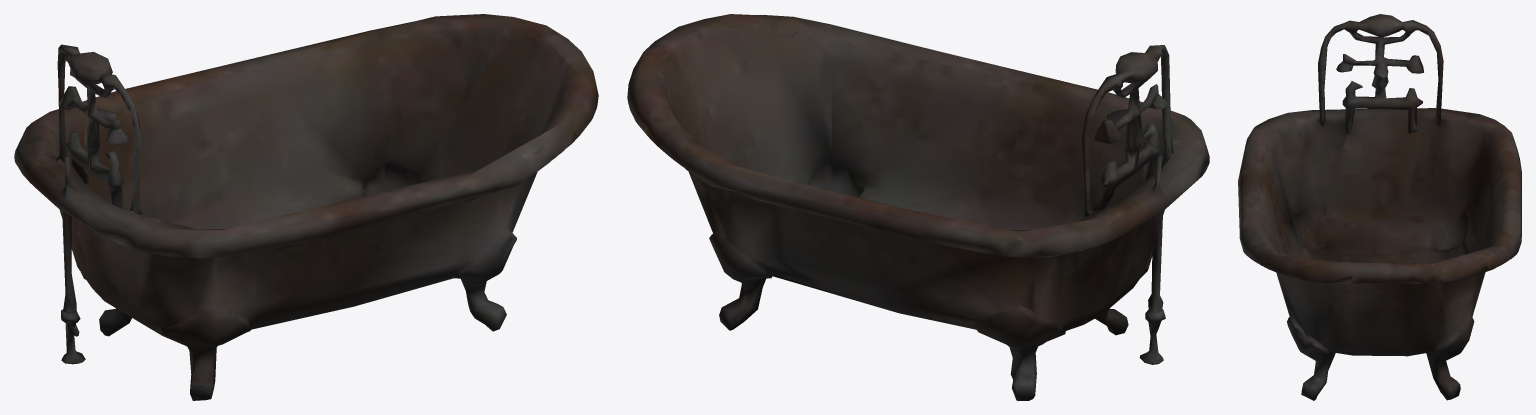
The model's file is ornate-iron-bathtub-v001.glb.
The picture shows the model from 3 angles, left to right: view 1: azimuth 30°, elevation 25°; view 2: azimuth 150°, elevation 25°; view 3: azimuth 270°, elevation 25°; orthographic projection. The views are drawn at different scales.
Parts seen in each view (by area): view 1: ornate-iron-bathtub; view 2: ornate-iron-bathtub; view 3: ornate-iron-bathtub.
Part boxes in pixels (x1,y1,x2,y2): ornate-iron-bathtub: (14, 14, 598, 400); ornate-iron-bathtub: (627, 14, 1209, 400); ornate-iron-bathtub: (1238, 14, 1521, 400).
Size of the model in its own units: 1.14 by 0.6956 by 0.7208.
1 material, 1 textured.
